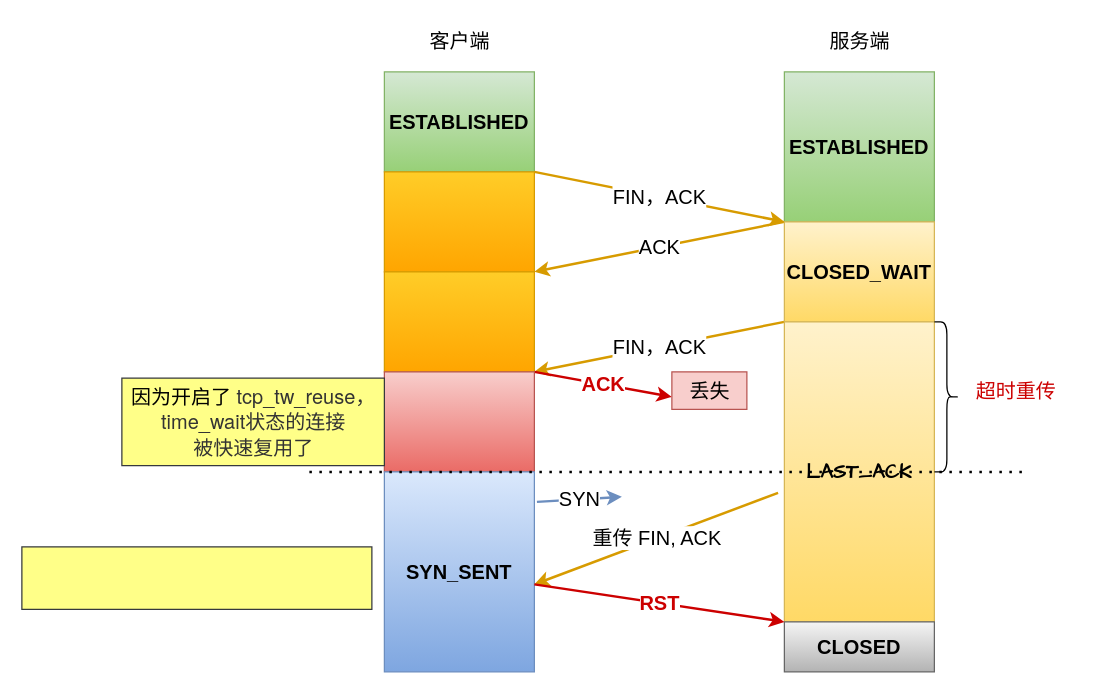
This 1094x694 diagram has some shape labels left out. The shapes that lost their labels are listed below. From the top down, each one's centre as x and y in pixels, then its label:
At point (458, 221): "FIN_WAIT_1".
At point (458, 321): "FIN_WAIT_2".
At point (458, 421): "TIME_WAIT".
At point (196, 577): "当客户端的收到[FIN, ACK] 报文后， 会回 RST 报文".
